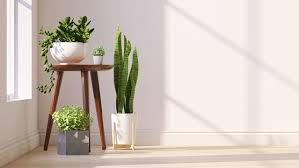Indoor Plant: (40, 14, 90, 92), (112, 24, 139, 150), (53, 103, 91, 155), (93, 46, 104, 66)
table: (45, 64, 113, 152)
window: (6, 0, 33, 100)
